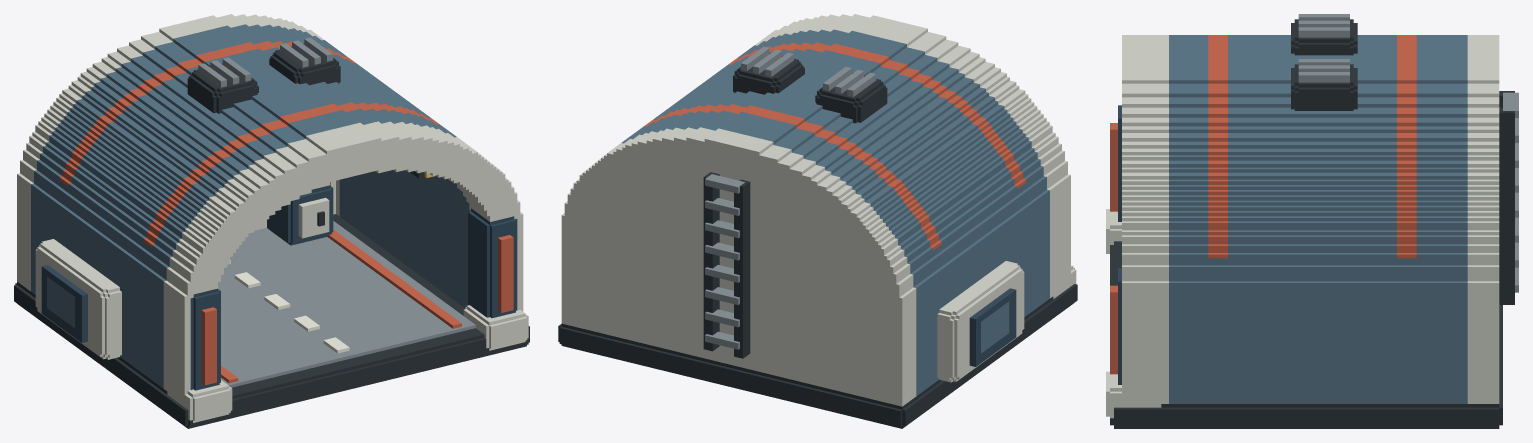
File: hangar.glb
3 views of the same model, side by side, from view 1: azimuth 30°, elevation 25°; view 2: azimuth 150°, elevation 25°; view 3: azimuth 270°, elevation 25° (orthographic). The views are drawn at different scales.
Visible parts, largest first — view 1: hangar; view 2: hangar; view 3: hangar.
Part boxes in pixels (x1,y1,x2,y2): hangar: (14,14,529,428); hangar: (558,14,1077,428); hangar: (1106,14,1518,428).
Size of the model in its own units: 7.86 by 5.33 by 6.83.
